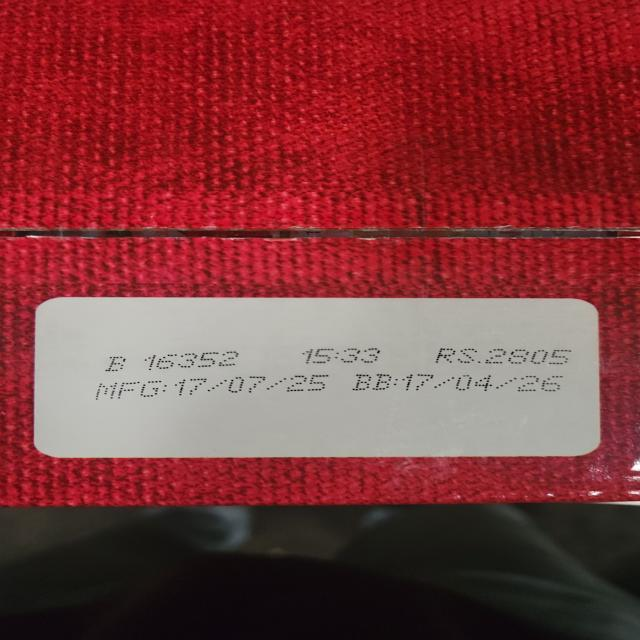BB: (353, 372, 565, 392)
Batch: (104, 351, 242, 371)
MFG: (99, 375, 325, 399)
RS: (435, 348, 576, 365)
TimeStamp: (301, 347, 381, 364)
